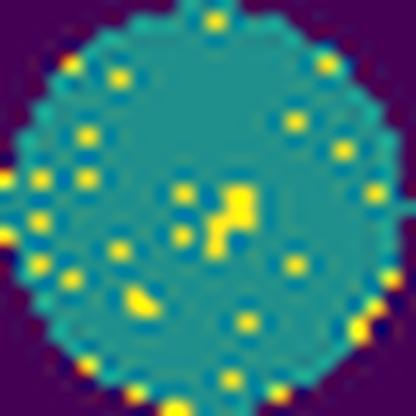Center: (201, 179, 264, 266)
